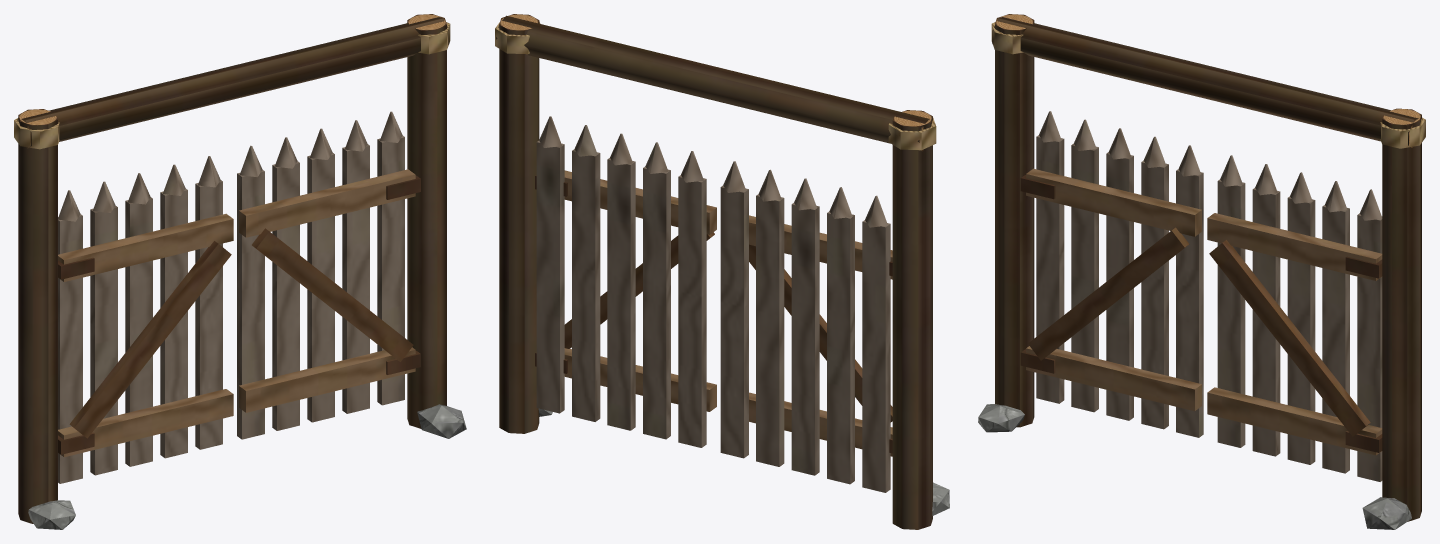
The model's file is gate.glb.
3 renders of one model, left to right at view 1: azimuth 30°, elevation 25°; view 2: azimuth 150°, elevation 25°; view 3: azimuth 330°, elevation 25°, orthographic.
Parts seen in each view (by area): view 1: gate, LeafR, LeafL; view 2: gate, LeafR, LeafL; view 3: gate, LeafL, LeafR.
Boxes of the visible parts, x1,y1,x2,y2 form: gate: [14, 14, 466, 529]; LeafR: [237, 111, 420, 439]; LeafL: [58, 156, 233, 483]; gate: [495, 14, 949, 529]; LeafR: [535, 116, 716, 447]; LeafL: [720, 161, 892, 492]; gate: [978, 14, 1425, 529]; LeafL: [1020, 111, 1203, 437]; LeafR: [1207, 155, 1382, 481].
Size of the model in its own units: 2.05 by 1.84 by 0.3406.
1 material, 1 textured.
